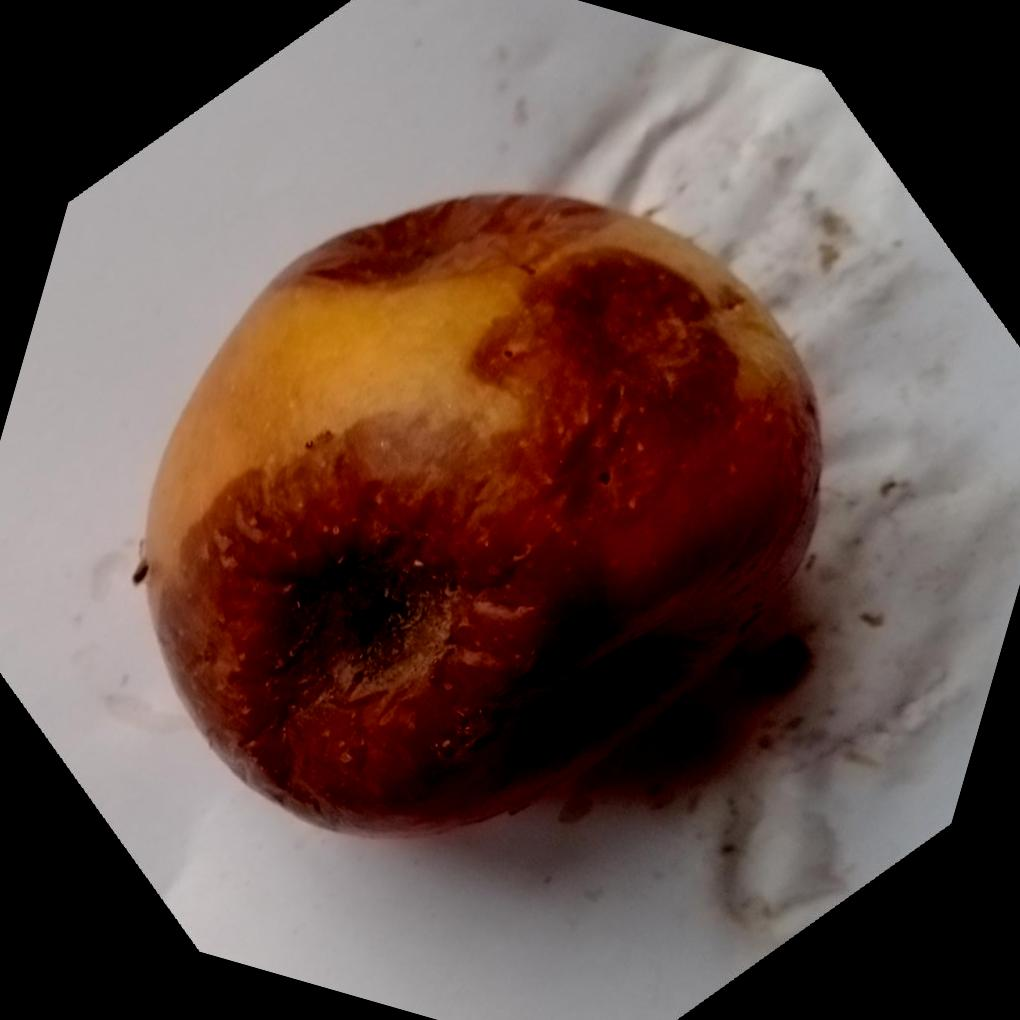FreshOrange: (137, 190, 828, 837)
